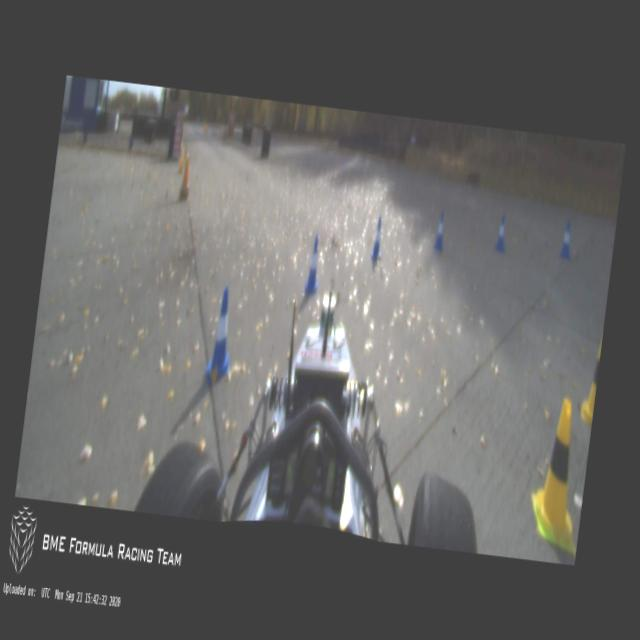blue_cone: (203, 285, 238, 389), (303, 234, 323, 296), (558, 218, 574, 259), (370, 217, 384, 258), (494, 214, 509, 252), (433, 213, 447, 247)
yellow_cone: (524, 394, 594, 553), (579, 330, 602, 425)
